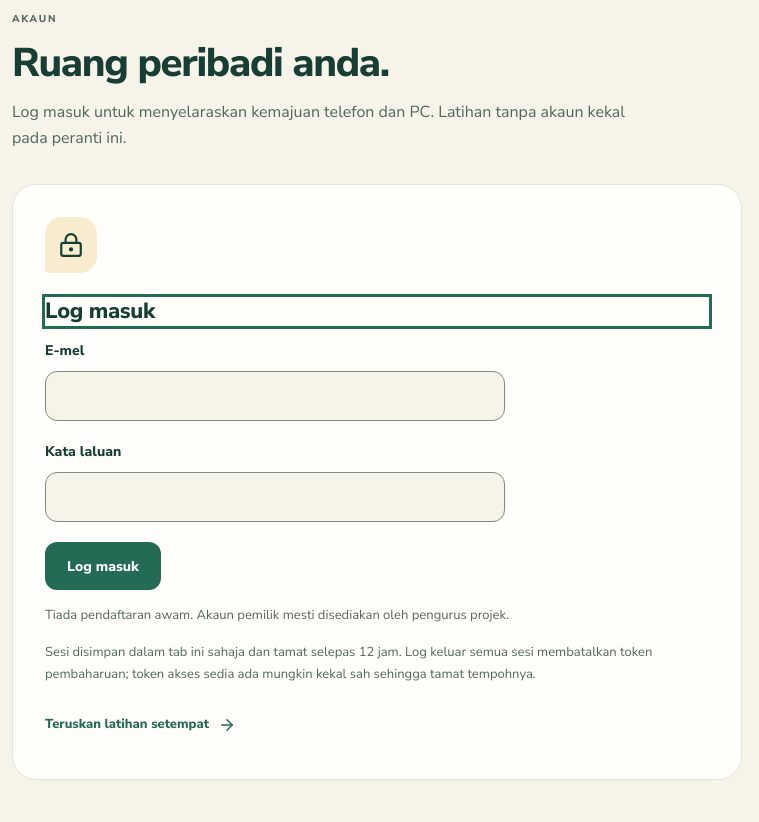
Test: public auth boundary › shows a generic login error without server error content and cleans its subscription
Type "learner@example.test" into the field labelled "E-mel" at [275, 396], box [45,372,505,422]
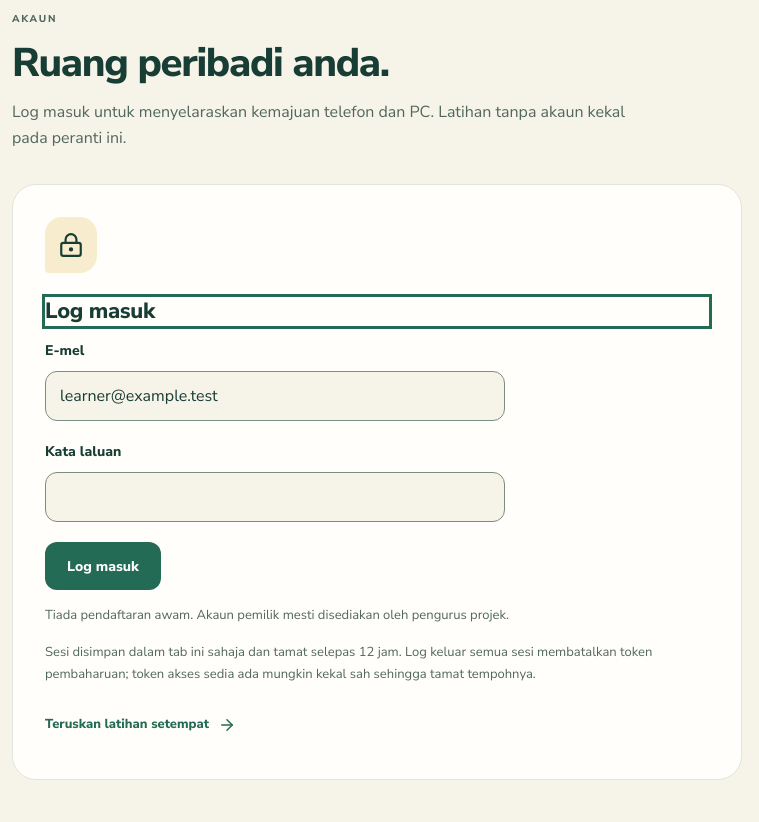
Type "password12" into the password field labelled "Kata laluan" at [275, 498], box [45,472,505,522]
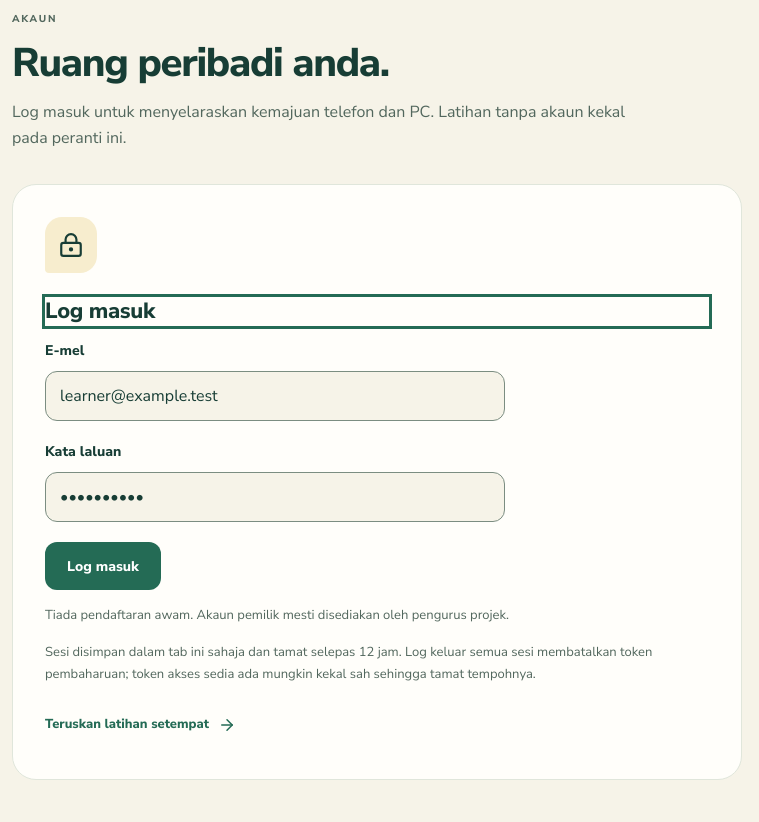
Submit the form "Log masuk", box [45,340,505,590]
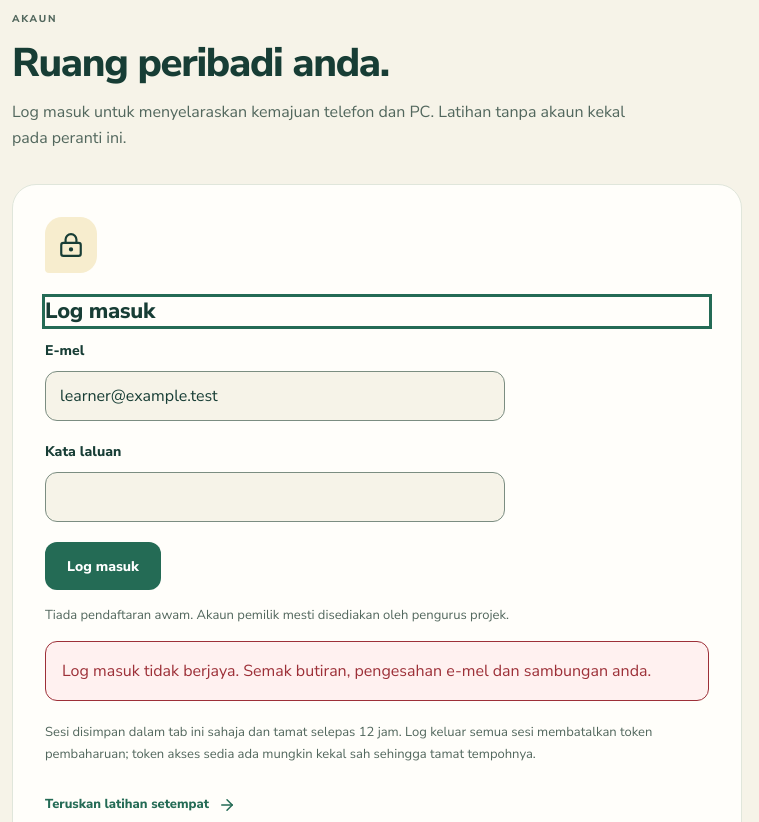
Check: the message shows "Log masuk tidak berjaya", box [62,660,651,682]
Check: the password field labelled "Kata laluan" is empty, box [45,472,505,522]
